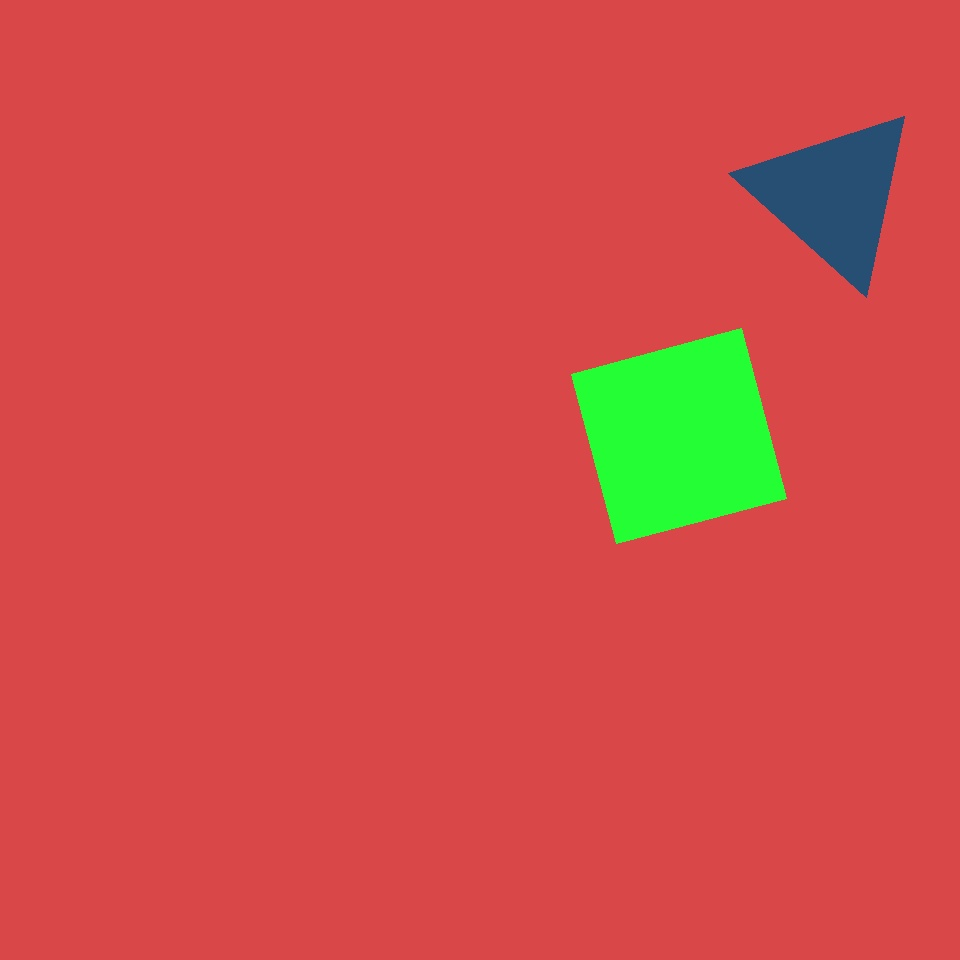circle: (745, 106, 921, 286), (346, 740, 476, 853)
square: (572, 328, 786, 544)
triangle: (89, 387, 241, 539)
